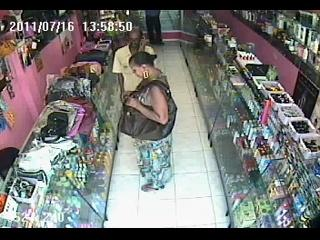Normal: (120, 50, 177, 192), (120, 83, 178, 141), (112, 26, 154, 94), (145, 10, 165, 45), (76, 50, 109, 65)
